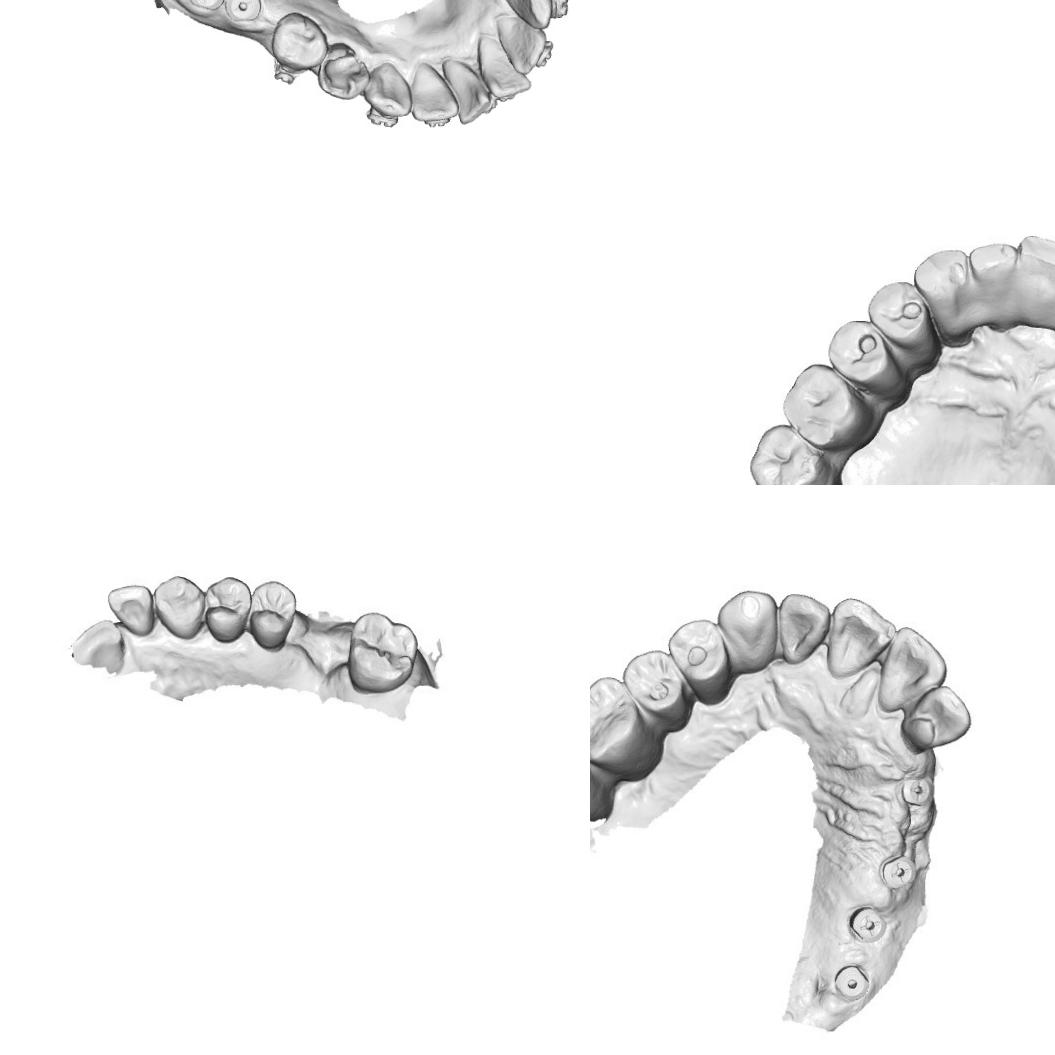canine: (912, 244, 976, 336), (715, 587, 778, 676), (153, 568, 209, 642), (366, 60, 412, 118), (500, 0, 554, 32)
implant: (831, 959, 873, 1006)
implant_minus: (224, 0, 267, 27), (185, 0, 226, 12)
implant_plus: (876, 847, 921, 895), (849, 900, 886, 944), (898, 770, 934, 811)
incisor: (894, 684, 976, 760), (876, 627, 944, 715), (819, 601, 890, 677), (972, 238, 1023, 330), (1020, 227, 1055, 338), (776, 591, 828, 665), (478, 38, 530, 101), (102, 581, 155, 639), (412, 63, 460, 125), (450, 58, 494, 125), (499, 16, 546, 78)
molar: (779, 362, 873, 458), (590, 669, 664, 785), (343, 608, 418, 694), (745, 421, 844, 485), (590, 720, 614, 832)
premolar: (620, 644, 699, 734), (824, 316, 898, 404), (868, 280, 938, 372), (664, 617, 734, 707), (244, 578, 300, 650), (202, 573, 253, 644), (270, 11, 327, 73), (314, 40, 367, 101)
